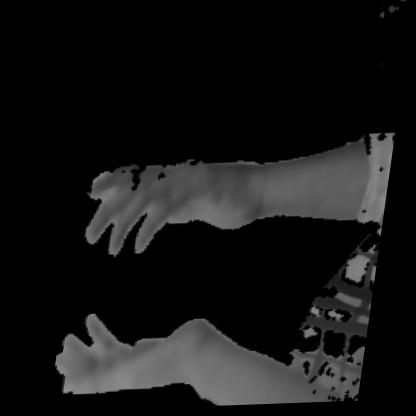clap: (49, 133, 327, 412)
